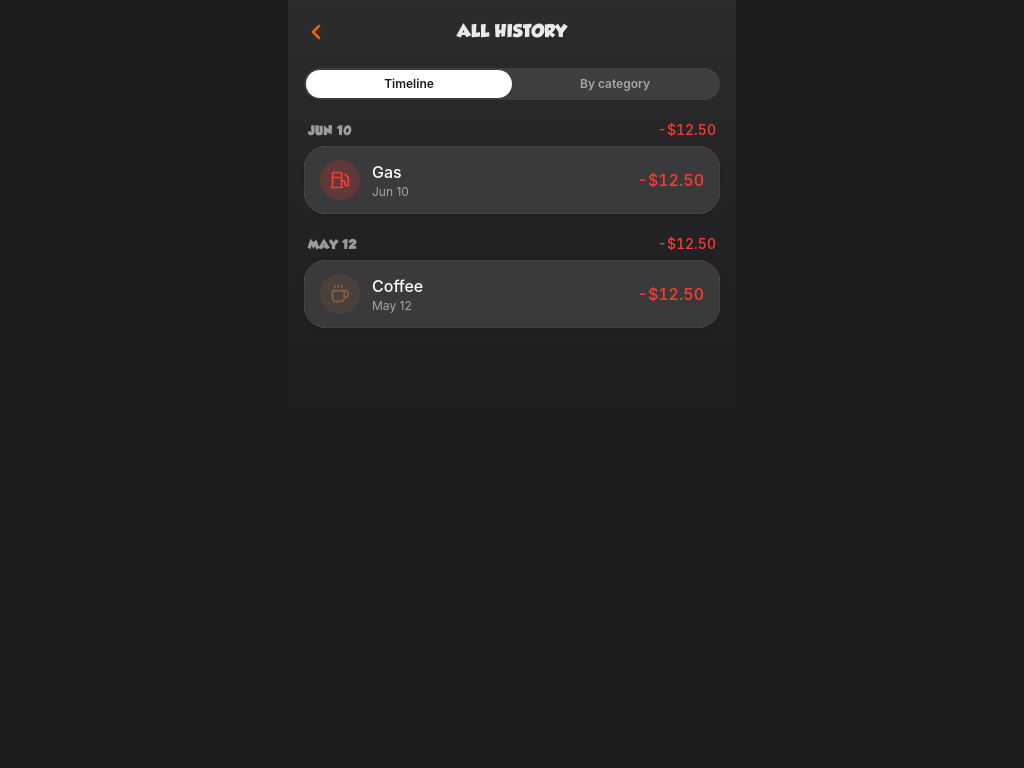
Test case: History › scopes the category view to a month and pages between months
The width and height of the screenshot is (1024, 768).
Click the tab "By category".
click(615, 84)  # box left=512, top=70, right=718, bottom=98
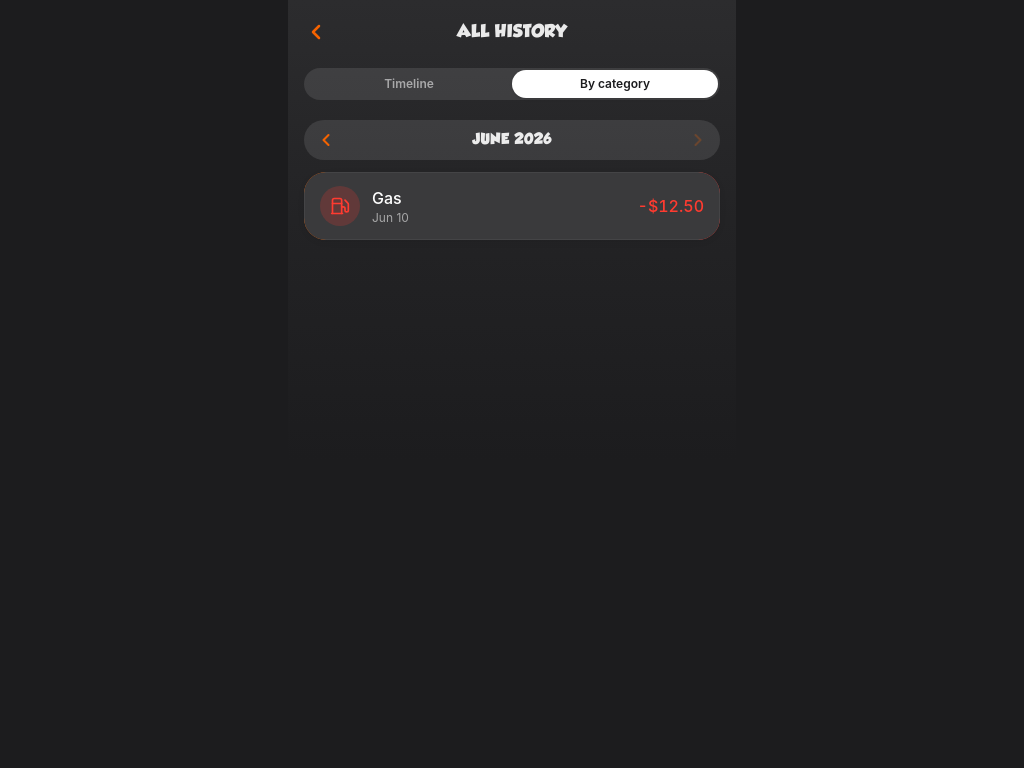
Expected: the text "Gas" is shown, left=372, top=188, right=402, bottom=208
Expected: the text "June 2026" is shown, left=472, top=130, right=552, bottom=150
Expected: the text "Coffee" is gone
# Page back a month: now May's coffee shows and June's gas is gone.
Click the button named "Previous month".
click(326, 140)  # box left=308, top=122, right=344, bottom=158
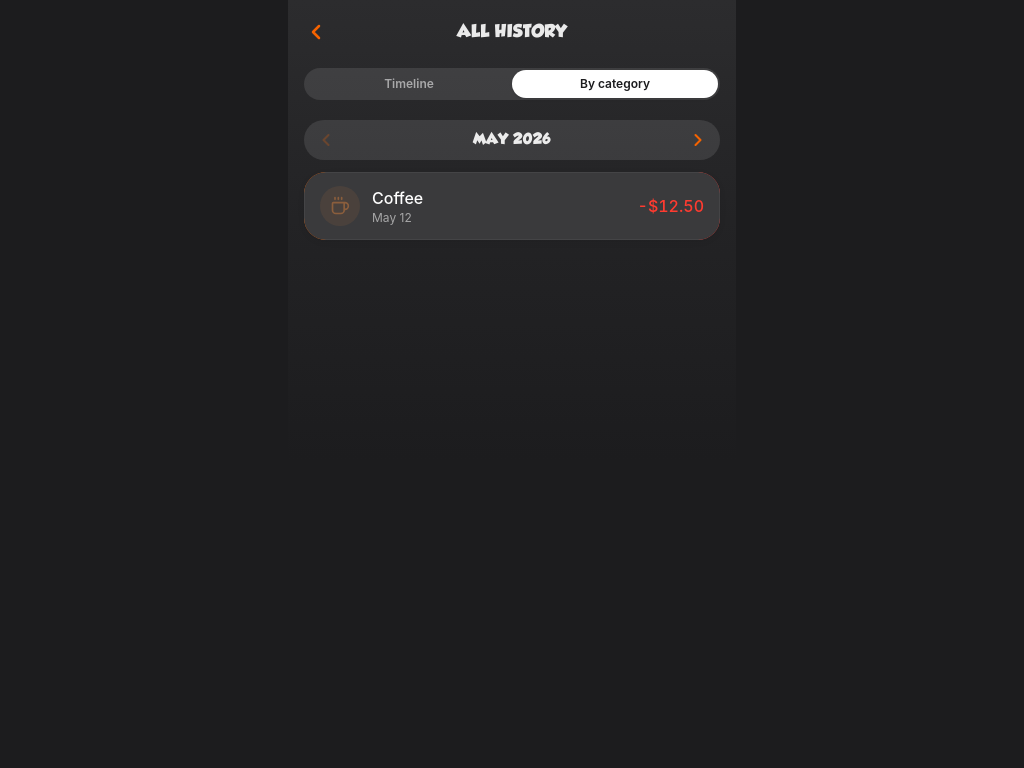
Expected: the text "May 2026" is shown, left=473, top=130, right=551, bottom=150
Expected: the text "Coffee" is shown, left=372, top=188, right=423, bottom=208
Expected: the text "Gas" is gone
# Page forward again: back to June, and capped at the present.
Click the button named "Next month".
click(698, 140)  # box left=680, top=122, right=716, bottom=158
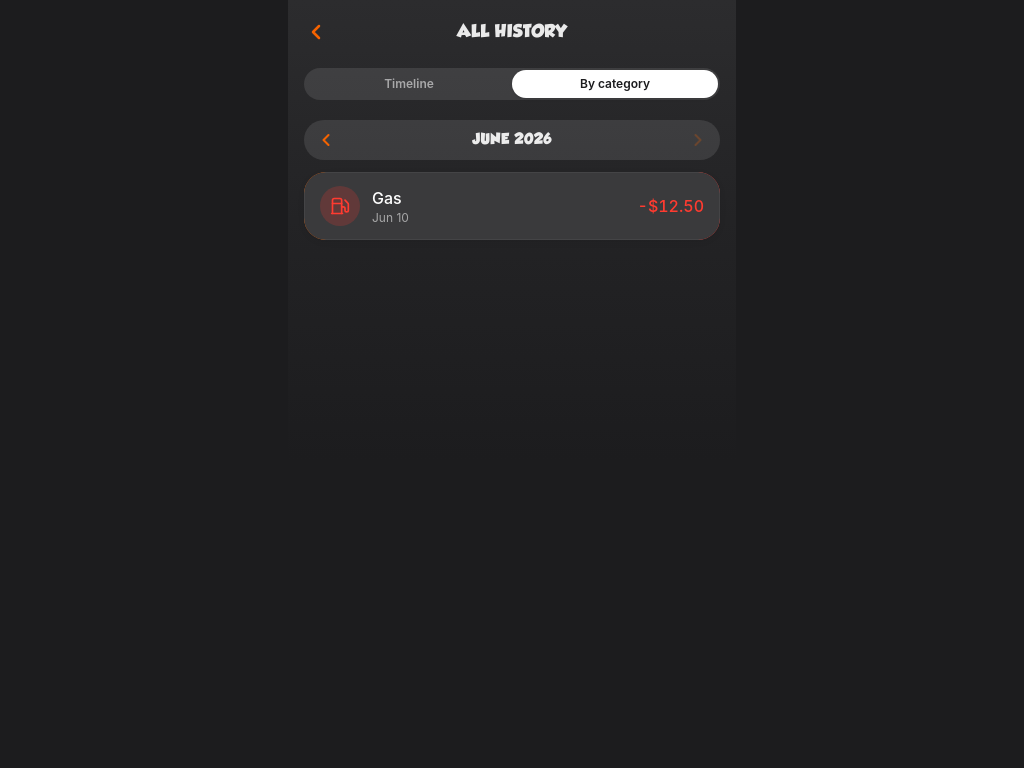
Expected: the text "June 2026" is shown, left=472, top=130, right=552, bottom=150
Expected: the text "Gas" is shown, left=372, top=188, right=402, bottom=208
Expected: the button named "Next month" is disabled, left=680, top=122, right=716, bottom=158
